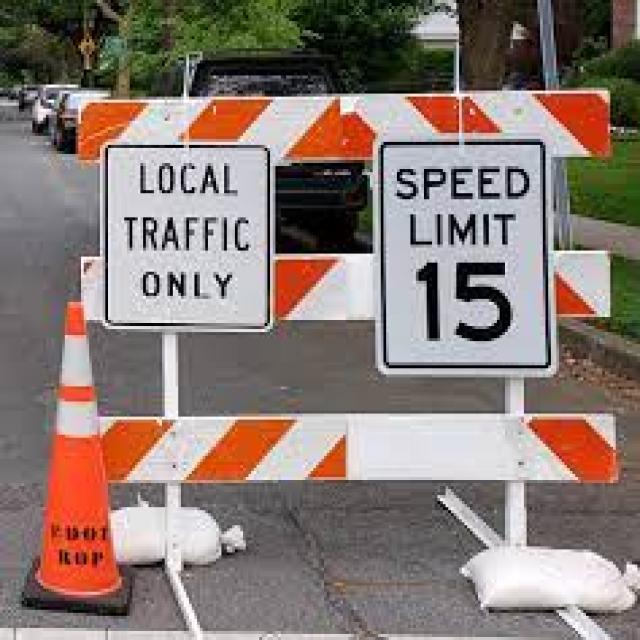speedLimit15: (376, 134, 552, 370)
